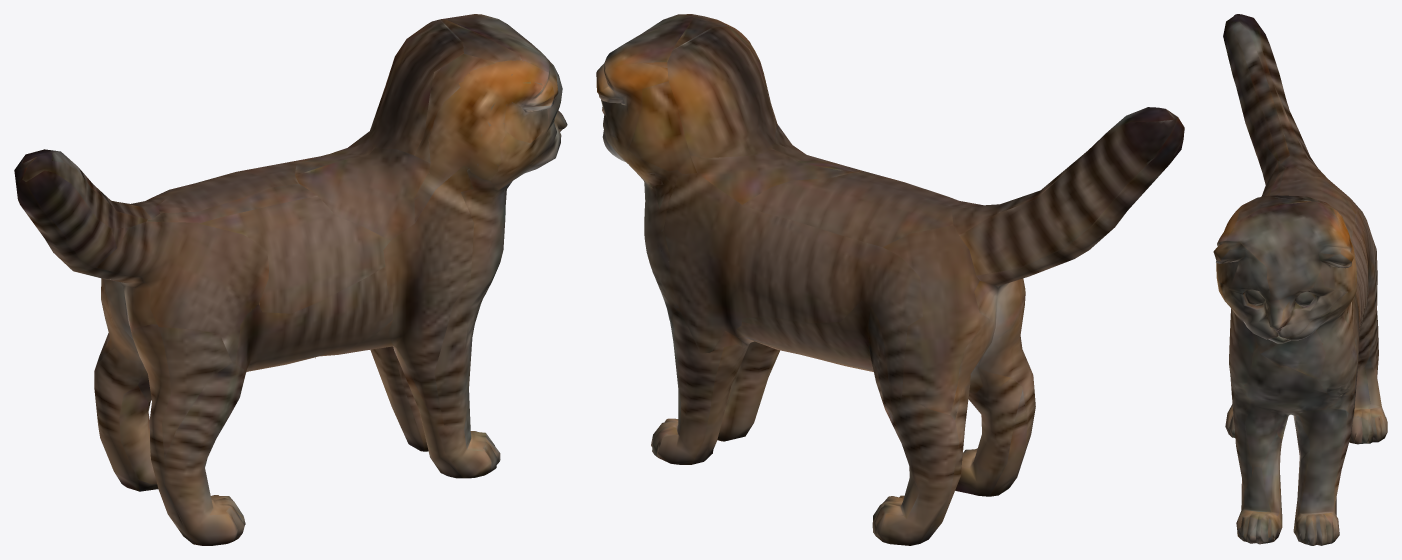
File: PAYAKE-lo.glb
3 renders of one model, left to right at view 1: azimuth 30°, elevation 25°; view 2: azimuth 150°, elevation 25°; view 3: azimuth 270°, elevation 25°, orthographic. The views are drawn at different scales.
Visible parts, largest first — view 1: material; view 2: material; view 3: material.
Boxes of the visible parts, bbox=[...] form: material: bbox=[14, 14, 567, 545]; material: bbox=[596, 14, 1184, 545]; material: bbox=[1213, 14, 1387, 545].
Size of the model in its own units: 1.39 by 0.9953 by 0.4514.
Materials: 1 (1 with a texture image).
